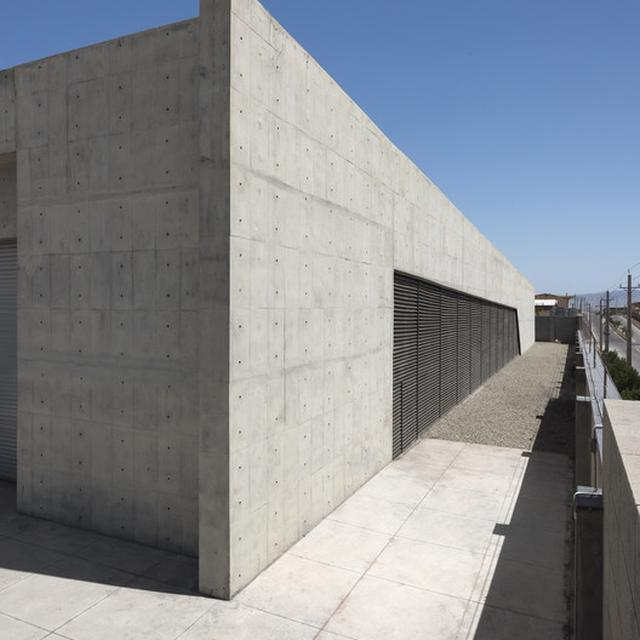building: (18, 0, 536, 593)
